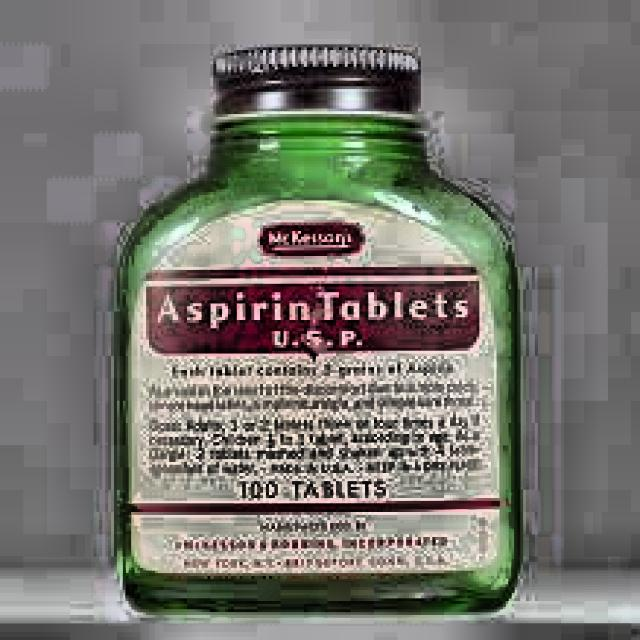Aspirin: (143, 264, 485, 366)
